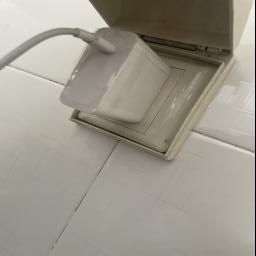outlet: (64, 24, 241, 168)
